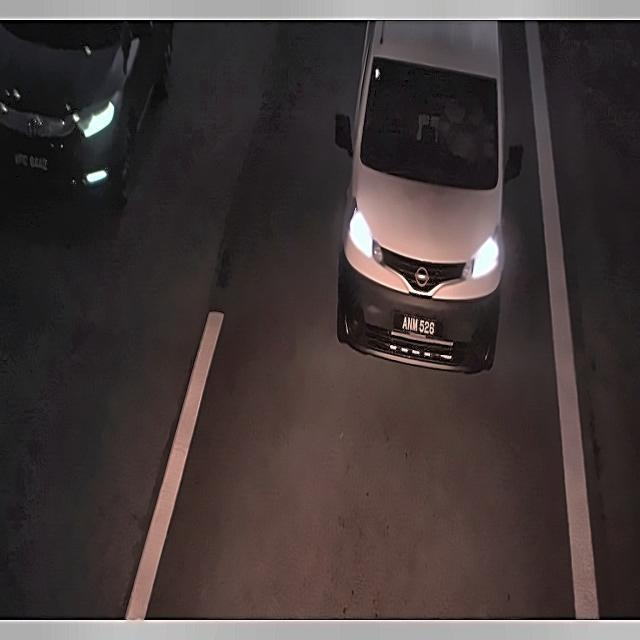car: (390, 303, 444, 345), (8, 143, 56, 180)
